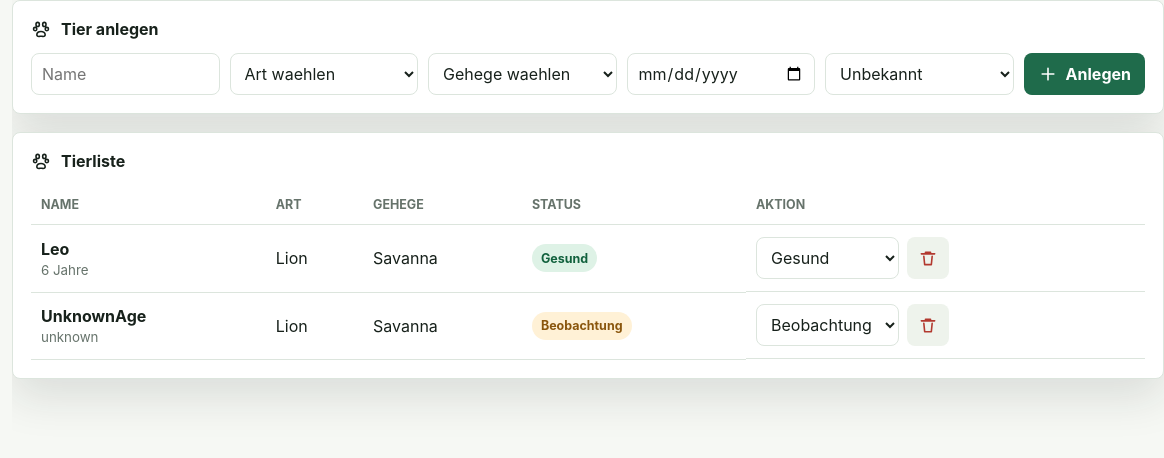
Scenario: AnimalsView › shows an error and does not reload when deleting an animal fails
The image size is (1164, 458).
Click the button named "Tier Leo archivieren".
click(928, 258)  # box [907,237,949,279]
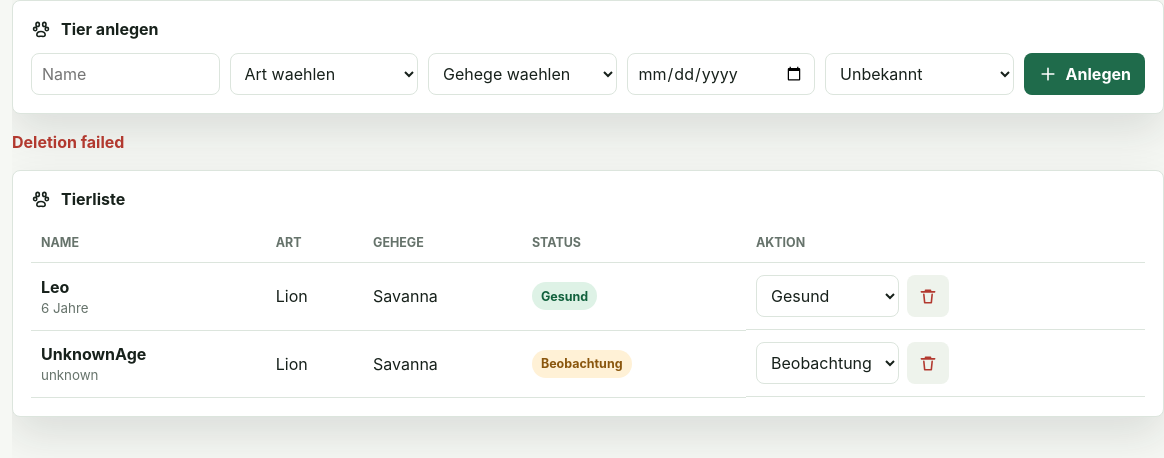
Expected: the text "Deletion failed" is shown, [12,132,124,152]
